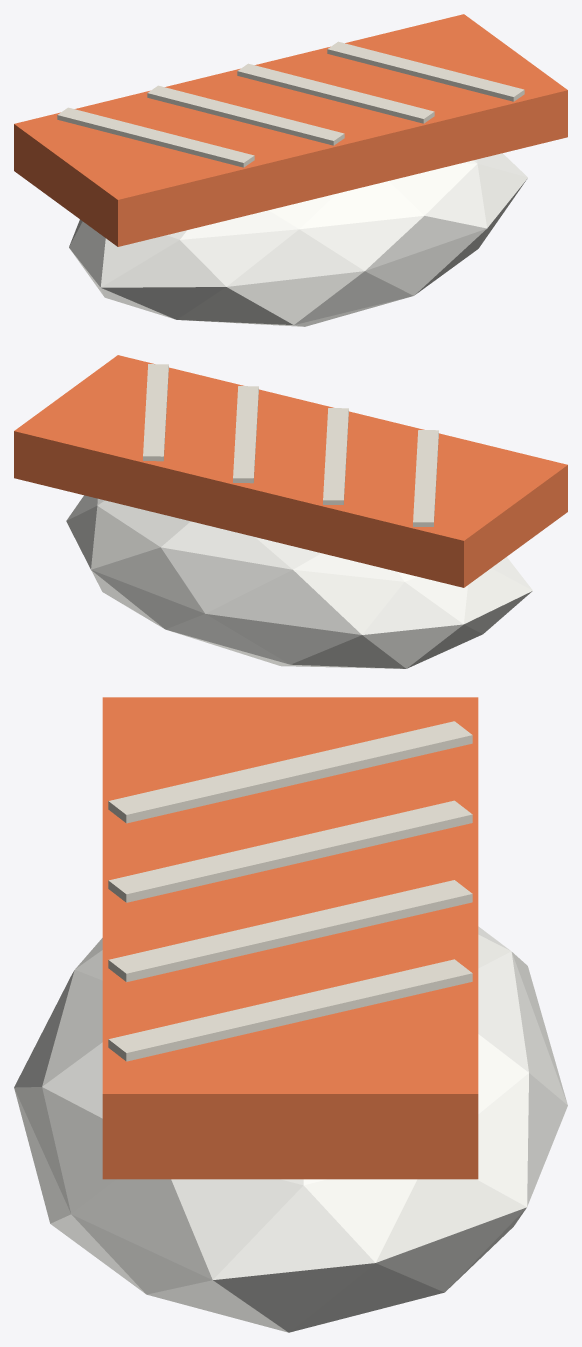
File: sushi_nigiri.glb
The picture shows the model from 3 angles, top to bottom: view 1: azimuth 30°, elevation 25°; view 2: azimuth 150°, elevation 25°; view 3: azimuth 270°, elevation 25°; orthographic projection. The views are drawn at different scales.
Visible parts, largest first — view 1: sushi_nigiri; view 2: sushi_nigiri; view 3: sushi_nigiri.
Part boxes in pixels (x1,y1,x2,y2): sushi_nigiri: (14,14,567,326); sushi_nigiri: (14,355,567,668); sushi_nigiri: (14,697,567,1332).
Bounding box in the file's own units: 0.1 × 0.0422 × 0.059.
